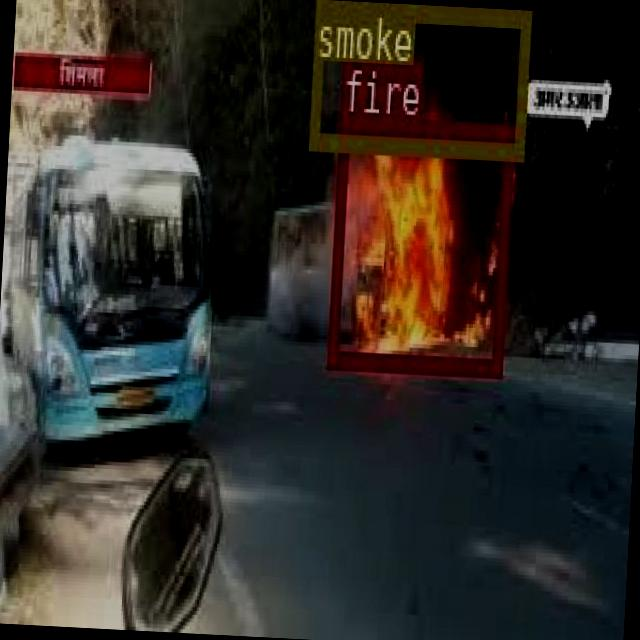fire: (326, 111, 512, 372)
smoke: (307, 0, 529, 159)
